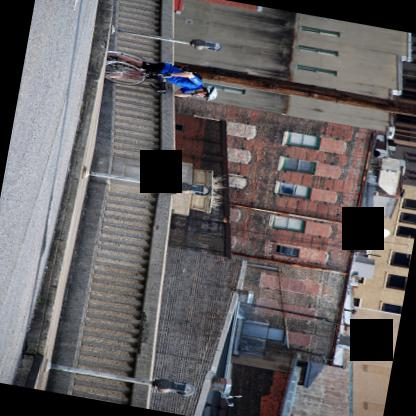backpack: (173, 65, 201, 86)
